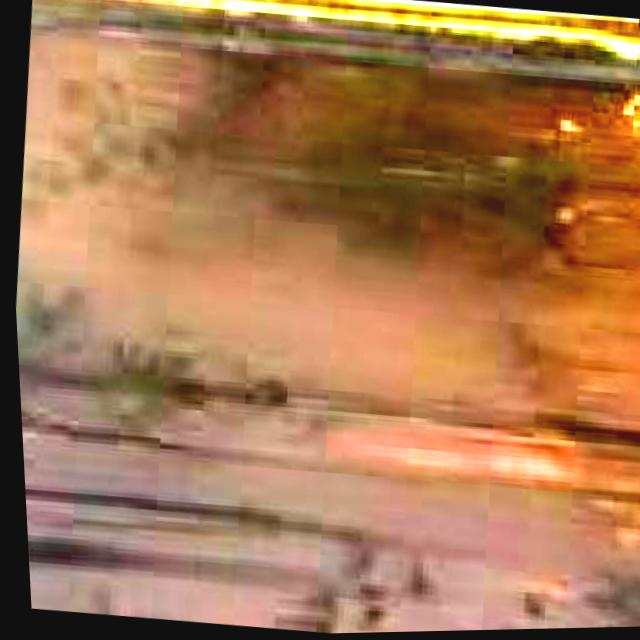fire: (32, 0, 640, 56), (587, 82, 640, 337)
